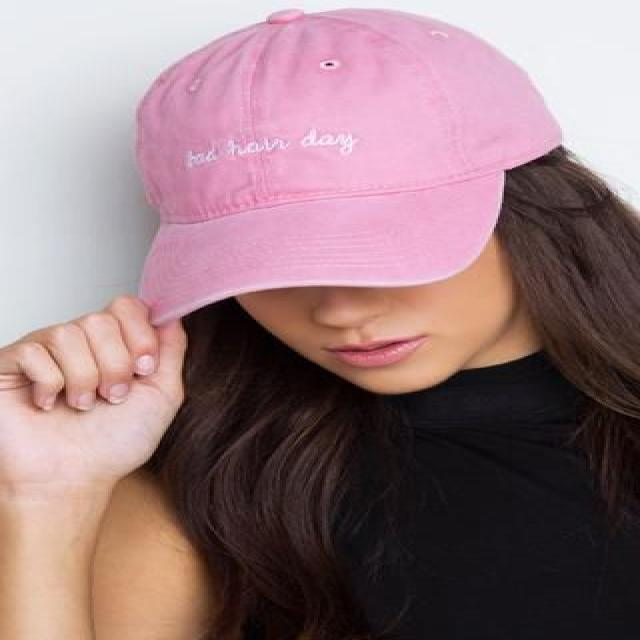cap: (69, 0, 586, 335)
